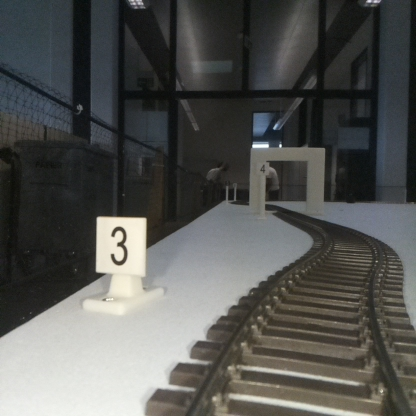white-info-4: (256, 161, 269, 218)
white-stop-3: (95, 217, 146, 313)
